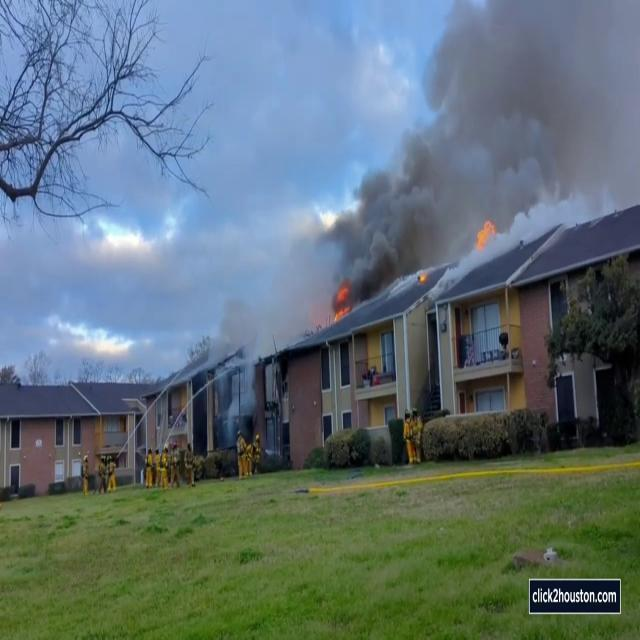Fire: (328, 280, 354, 324), (474, 214, 498, 250)
Smoke: (317, 1, 609, 300), (180, 284, 268, 442)
